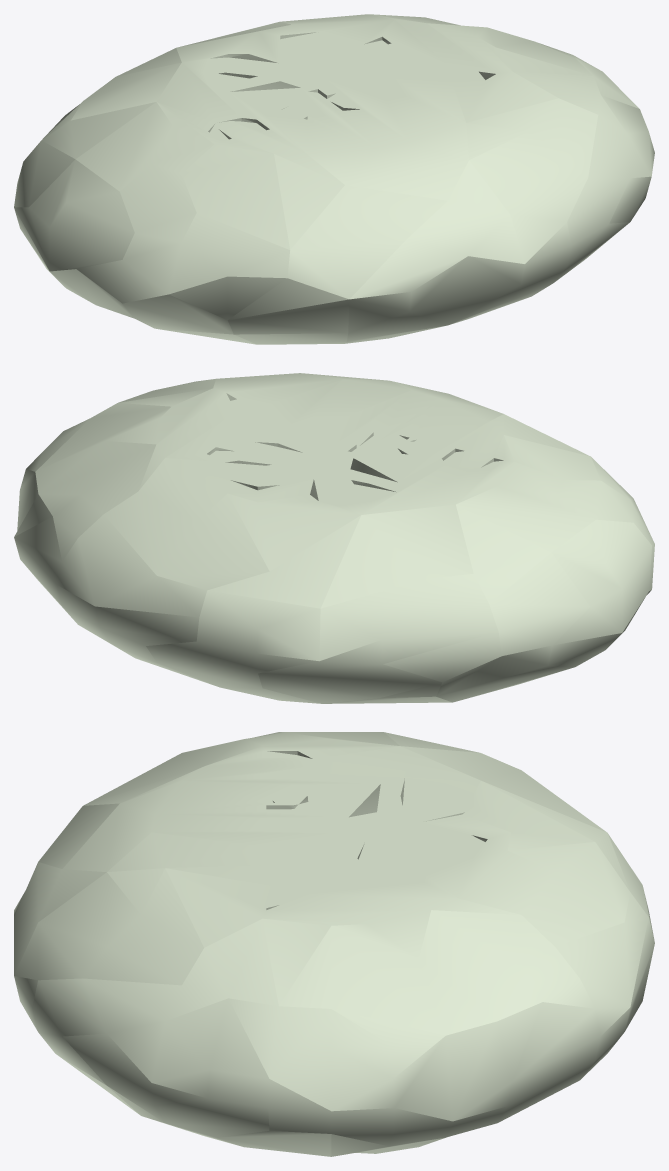
The model's file is Soap.fbx.
3 renders of one model, top to bottom at view 1: azimuth 30°, elevation 25°; view 2: azimuth 150°, elevation 25°; view 3: azimuth 270°, elevation 25°, orthographic. The views are drawn at different scales.
Visible parts, largest first — view 1: Soap; view 2: Soap; view 3: Soap.
Boxes of the visible parts, bbox=[...] form: Soap: bbox=[14, 14, 654, 344]; Soap: bbox=[14, 373, 654, 703]; Soap: bbox=[14, 732, 654, 1156].
Bounding box in the file's own units: 70.77 × 22.23 × 57.57.
